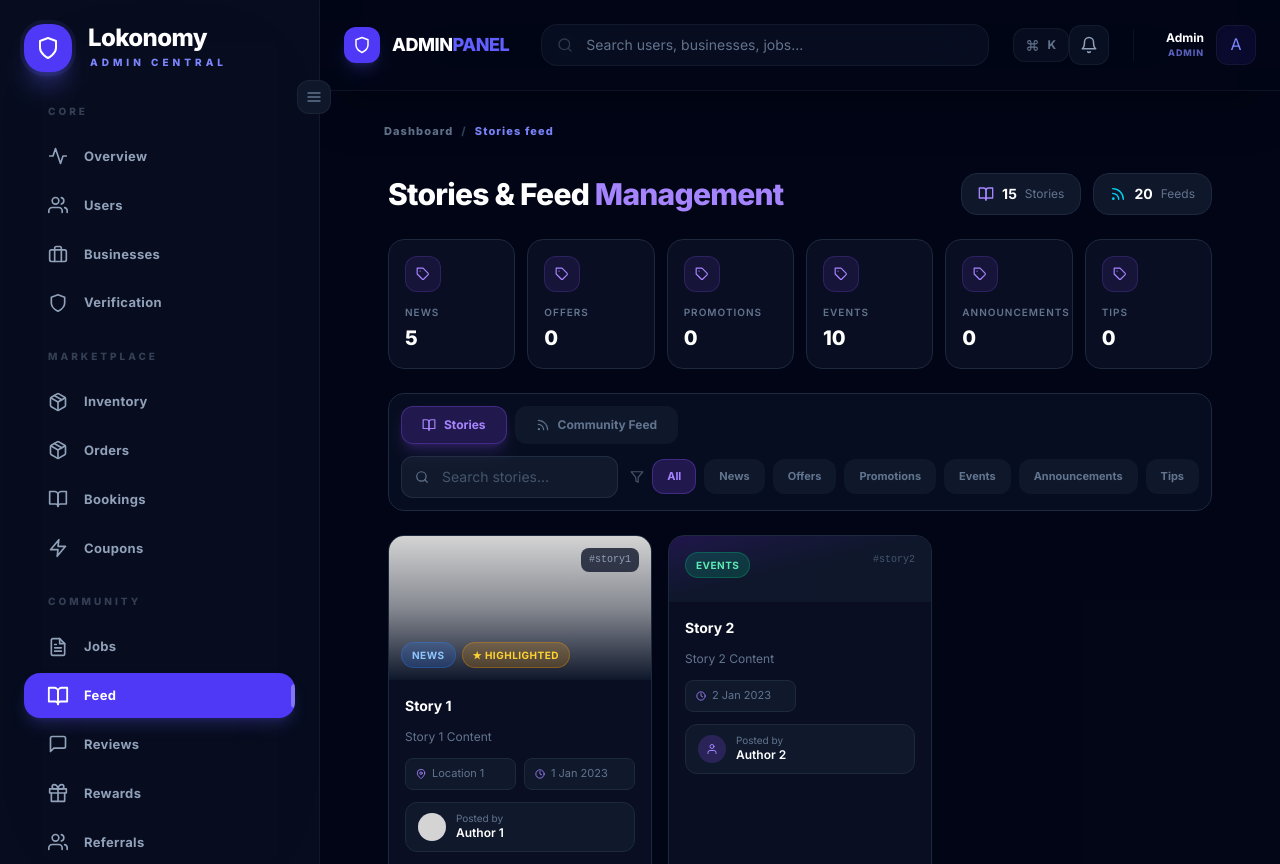
Test case: AdminStoriesFeed Component › switches to feeds tab and displays feeds
Expected: the heading "Story 1" is shown, [405,697,452,714]
Click the button "Community Feed" at x=596, y=425, box [515,406,678,444]
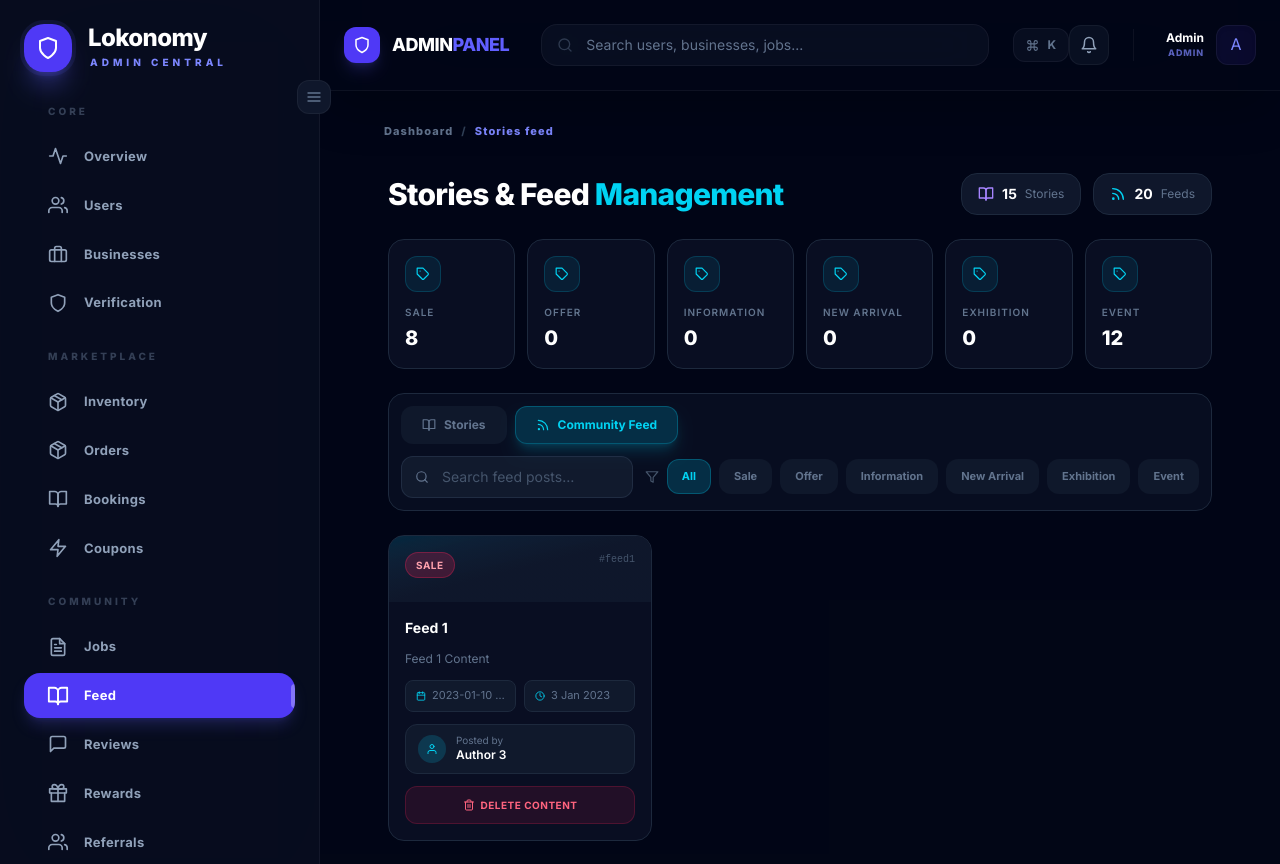
Expected: the heading "Feed 1" is shown, [405,619,448,636]
